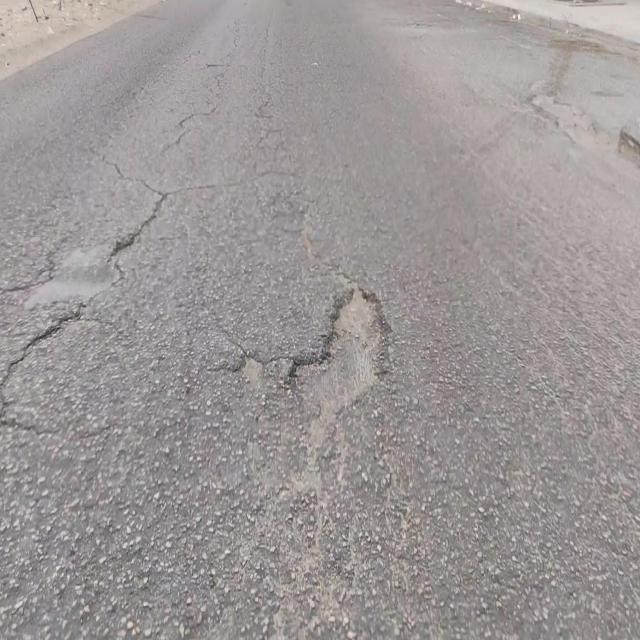Potholes: (288, 280, 386, 415)
